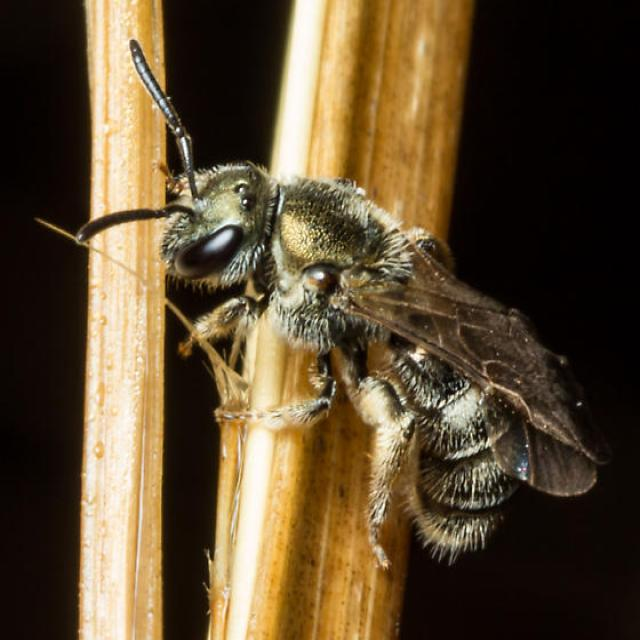Braunsapis: (74, 27, 612, 588)
